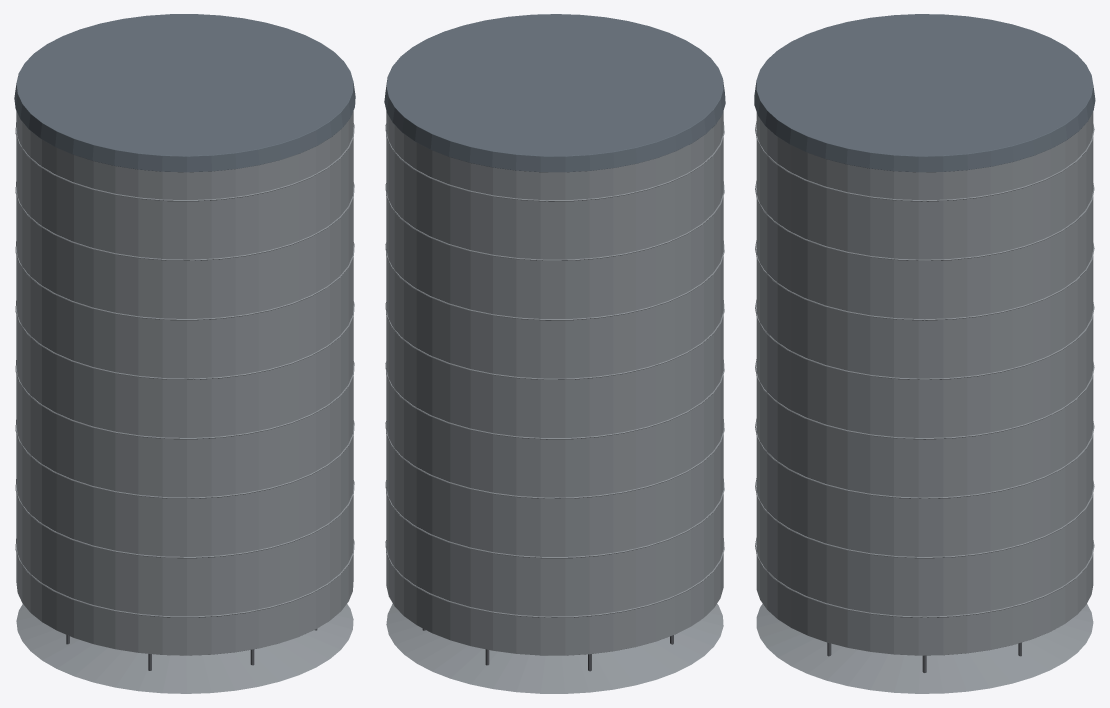
Rendered from bl-silo.glb.
The picture shows the model from 3 angles, left to right: view 1: azimuth 30°, elevation 25°; view 2: azimuth 150°, elevation 25°; view 3: azimuth 270°, elevation 25°; orthographic projection.
Parts seen in each view (by area): view 1: silo; view 2: silo; view 3: silo.
Part boxes in pixels (<box>): silo: <box>14,14,355,693</box>; silo: <box>384,14,725,693</box>; silo: <box>754,14,1095,693</box>.
Size of the model in its own units: 24.28 by 42.6 by 24.26.
